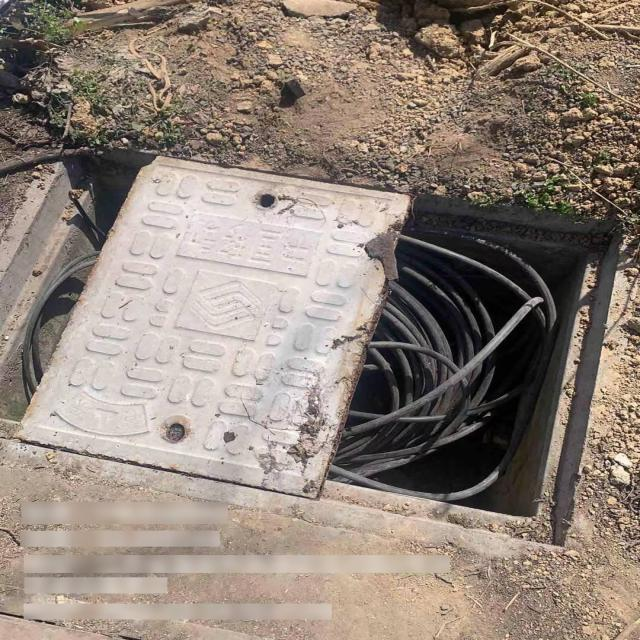Uncovered: (7, 136, 625, 552)
